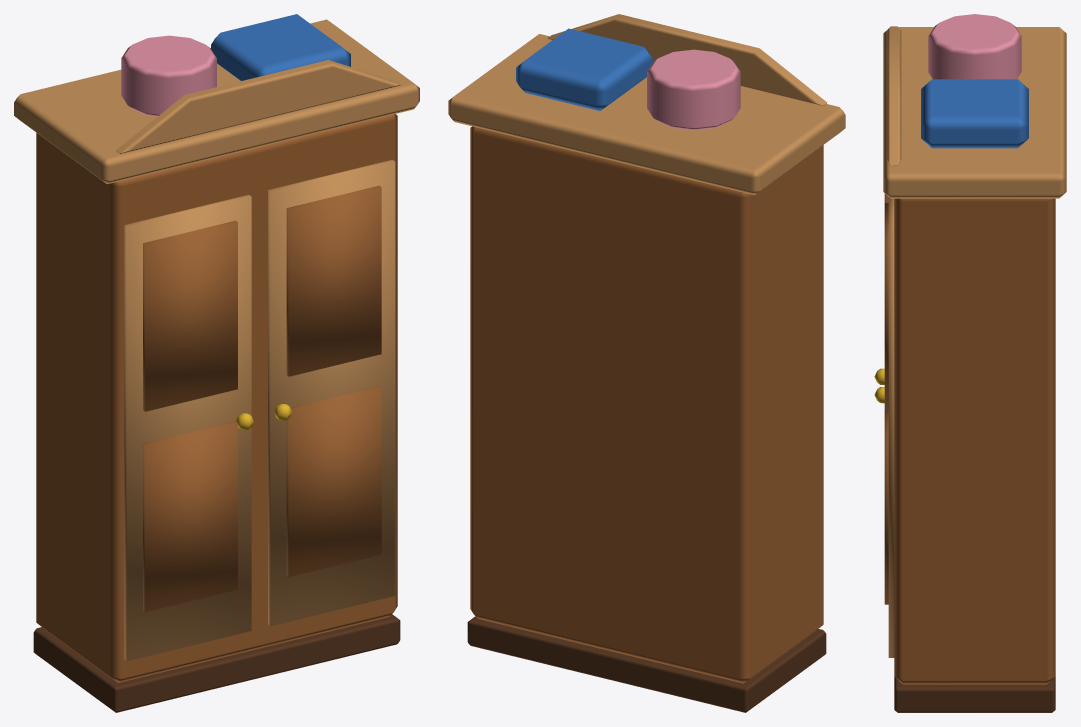
File: wardrobe.glb
3 renders of one model, left to right at view 1: azimuth 30°, elevation 25°; view 2: azimuth 150°, elevation 25°; view 3: azimuth 270°, elevation 25°, orthographic. The views are drawn at different scales.
Visible parts, largest first — view 1: wardrobe; view 2: wardrobe; view 3: wardrobe.
Part boxes in pixels (left/top/right/bottom): wardrobe: left=14, top=14, right=419, bottom=712; wardrobe: left=448, top=14, right=845, bottom=712; wardrobe: left=874, top=14, right=1066, bottom=712.
Bounding box in the file's own units: 1 × 1.82 × 0.535.
